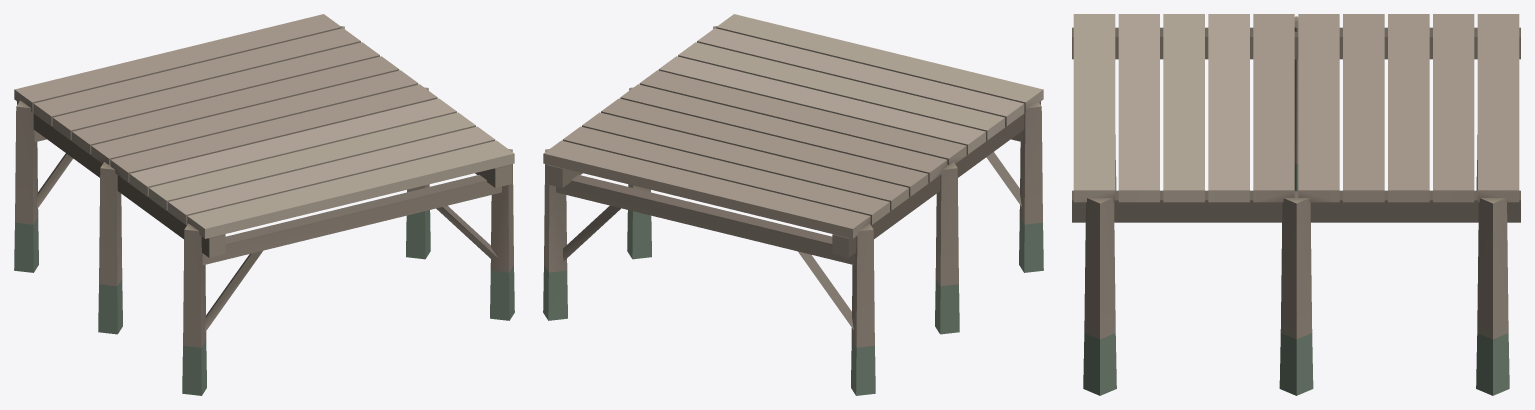
File: jetty.lod1.glb
3 views of the same model, side by side, from view 1: azimuth 30°, elevation 25°; view 2: azimuth 150°, elevation 25°; view 3: azimuth 270°, elevation 25° (orthographic). The views are drawn at different scales.
Size of the model in its own units: 4 by 1.96 by 4.
